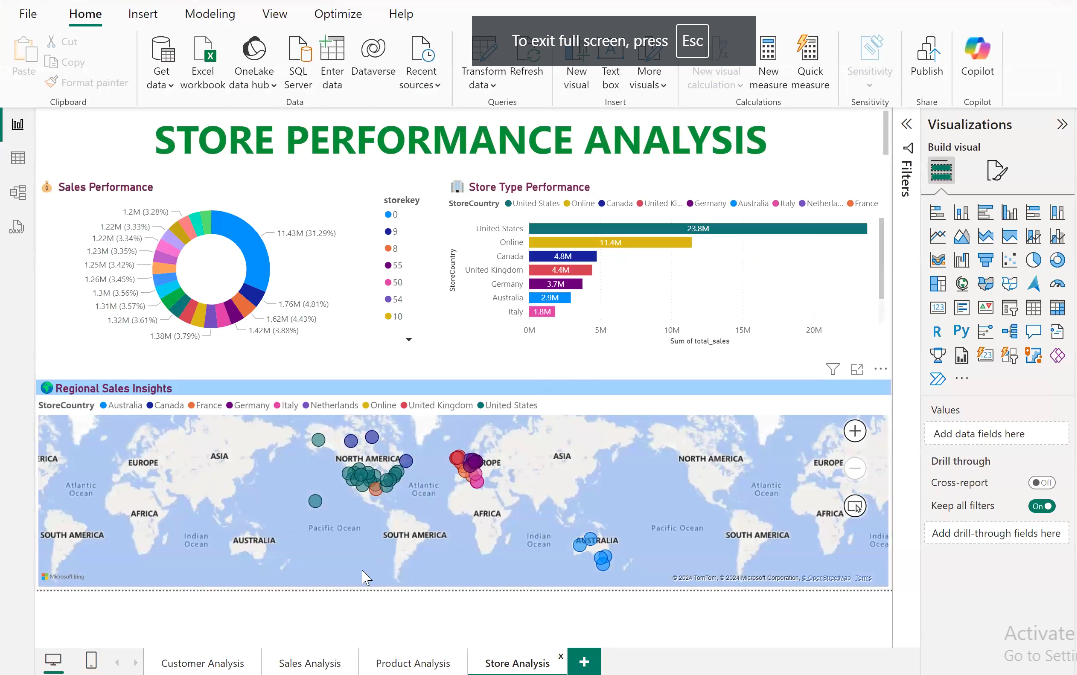

The dashboard page shown, as its layout file describes it:
{"tool":"powerbi","page":{"name":"Store Analysis","canvas":[1280,720],"ordinal":3},"visuals":[{"type":"textbox","box":[10.3,0,1269.6,88.2],"z":0},{"type":"textbox","box":[29.4,108.7,235.1,32.3],"z":1000},{"type":"donutChart","fields":{"Category":["customer_sale_eda store_details.StoreKey"],"Y":["CountNonNull(customer_sale_eda sales_details.ProductKey)"]},"box":[44.1,178,397.2,233.9],"z":2000},{"type":"textbox","box":[484.9,104.3,235.1,36.7],"z":3000},{"type":"clusteredBarChart","fields":{"Category":["customer_sale_eda store_details.Country"]},"box":[279,178,1001,150],"z":4000},{"type":"textbox","box":[44.1,392.3,235.1,39.7],"z":5000},{"type":"filledMap","box":[60.2,459.9,235.1,149.9],"z":6000}]}

Visuals, with their boxes on the page's 1280x720 design canvas (x1, y1, x2, y2). These are canvas units, not pixel positions in the 1077x675 screenshot, which may show the page scaled, cropped or inside an application window:
textbox: {"x1": 10, "y1": 0, "x2": 1280, "y2": 88}
textbox: {"x1": 29, "y1": 109, "x2": 264, "y2": 141}
donutChart - customer_sale_eda store_details.StoreKey x CountNonNull(customer_sale_eda sales_details.ProductKey): {"x1": 44, "y1": 178, "x2": 441, "y2": 412}
textbox: {"x1": 485, "y1": 104, "x2": 720, "y2": 141}
clusteredBarChart - customer_sale_eda store_details.Country: {"x1": 279, "y1": 178, "x2": 1280, "y2": 328}
textbox: {"x1": 44, "y1": 392, "x2": 279, "y2": 432}
filledMap: {"x1": 60, "y1": 460, "x2": 295, "y2": 610}
